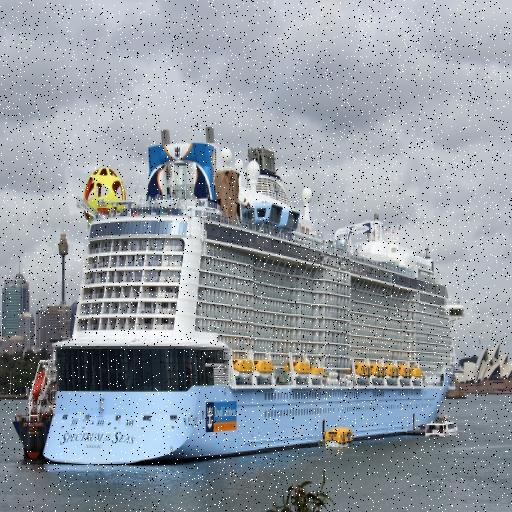cruises: (46, 126, 468, 478)
